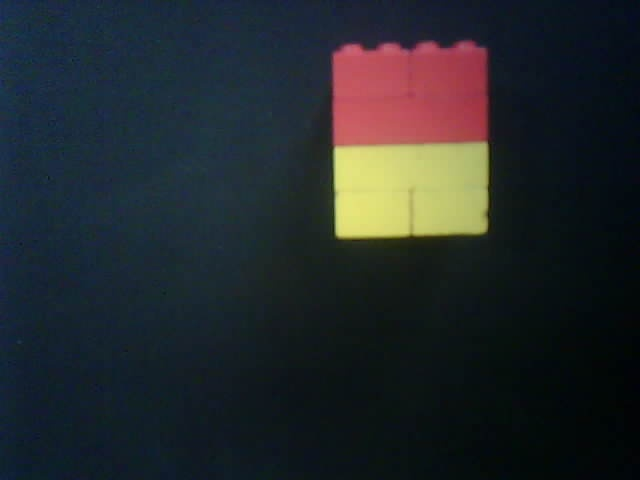lego: (329, 37, 487, 240)
